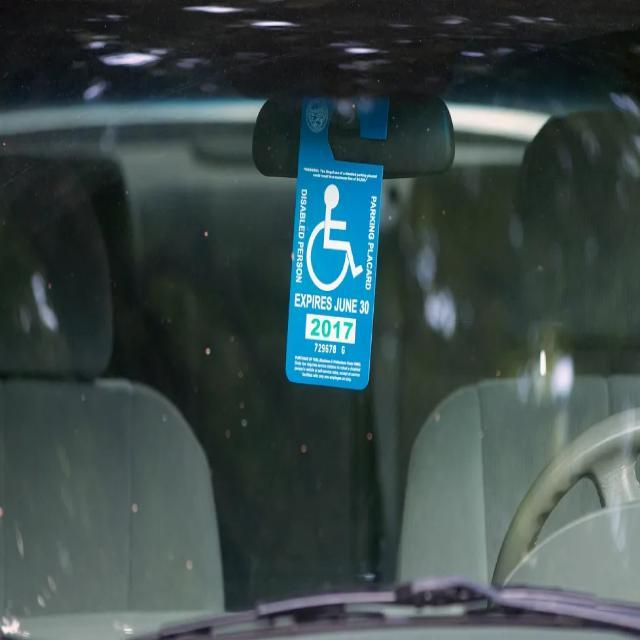symbol_of_access: (306, 177, 367, 290)
